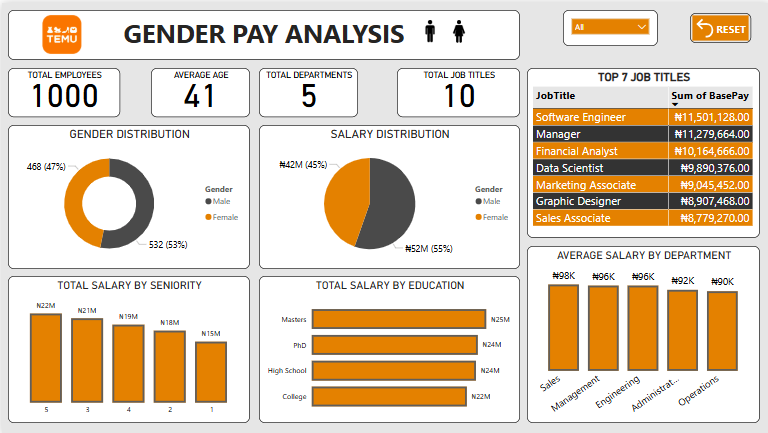

Layout of this report page (visuals, bound fields, positions):
{"tool":"powerbi","page":{"name":"Page 1","canvas":[1280,720],"ordinal":0},"visuals":[{"type":"textbox","box":[10,11.7,853.3,83.3],"z":0},{"type":"card","title":"TOTAL EMPLOYEES","fields":{"Values":["Count(Table_1.EMP_ID)"]},"box":[10,108.3,186.7,81.7],"z":1000},{"type":"card","title":"AVERAGE AGE","fields":{"Values":["Avg(Table_1.Age)"]},"box":[248.3,108.3,165,81.7],"z":2000},{"type":"clusteredColumnChart","title":"TOTAL SALARY BY SENIORITY","fields":{"Category":["Table_1.Seniority"],"Y":["Sum(Table_1.BasePay)"]},"box":[10,455,403.3,245],"z":3000},{"type":"donutChart","title":"GENDER DISTRIBUTION","fields":{"Category":["Table_1.Gender"],"Y":["CountNonNull(Table_1.EMP_ID)"]},"box":[10,203.3,403.3,240],"z":4000},{"type":"pieChart","title":"SALARY DISTRIBUTION","fields":{"Category":["Table_1.Gender"],"Y":["Sum(Table_1.BasePay)"]},"box":[428.3,203.3,435,240],"z":5000},{"type":"clusteredBarChart","title":"TOTAL SALARY BY EDUCATION","fields":{"Y":["Sum(Table_1.BasePay)"],"Category":["Table_1.Education"]},"box":[428.3,455,435,245],"z":6000},{"type":"clusteredColumnChart","title":"AVERAGE SALARY BY DEPARTMENT","fields":{"Y":["Avg(Table_1.BasePay)"],"Category":["Table_1.Dept"]},"box":[875,405,388.3,295],"z":7000},{"type":"tableEx","title":"TOP 7 JOB TITLES","fields":{"Values":["Table_1.JobTitle","Sum(Table_1.BasePay)"]},"box":[875,108.3,388.3,283.3],"z":8000},{"type":"slicer","fields":{"Values":["Table_1.Gender"]},"box":[935,11.7,158.3,60],"z":9000},{"type":"image","box":[690,23.3,46.7,46.7],"z":10000},{"type":"image","box":[736.7,23.3,50,48.3],"z":11000},{"type":"actionButton","box":[1146.7,16.7,101.7,50],"z":12000},{"type":"image","box":[33.3,10,133.3,85],"z":13000},{"type":"card","title":"TOTAL DEPARTMENTS","fields":{"Values":["Count(Table_1.Dept)"]},"box":[428.3,108.3,165,81.7],"z":14000},{"type":"card","title":"TOTAL JOB TITLES","fields":{"Values":["Count(Table_1.JobTitle)"]},"box":[658.3,108.3,205,81.7],"z":15000}]}

Visuals, with their boxes in screenshot pixels (x1, y1, x2, y2), scaled from the page's 1280x720 canvas onto the 768x433 screenshot:
textbox: rect(6, 7, 518, 57)
"TOTAL EMPLOYEES" card: rect(6, 65, 118, 114)
"AVERAGE AGE" card: rect(149, 65, 248, 114)
"TOTAL SALARY BY SENIORITY" clusteredColumnChart: rect(6, 274, 248, 421)
"GENDER DISTRIBUTION" donutChart: rect(6, 122, 248, 267)
"SALARY DISTRIBUTION" pieChart: rect(257, 122, 518, 267)
"TOTAL SALARY BY EDUCATION" clusteredBarChart: rect(257, 274, 518, 421)
"AVERAGE SALARY BY DEPARTMENT" clusteredColumnChart: rect(525, 244, 758, 421)
"TOP 7 JOB TITLES" tableEx: rect(525, 65, 758, 236)
slicer - Table_1.Gender: rect(561, 7, 656, 43)
image: rect(414, 14, 442, 42)
image: rect(442, 14, 472, 43)
actionButton: rect(688, 10, 749, 40)
image: rect(20, 6, 100, 57)
"TOTAL DEPARTMENTS" card: rect(257, 65, 356, 114)
"TOTAL JOB TITLES" card: rect(395, 65, 518, 114)
